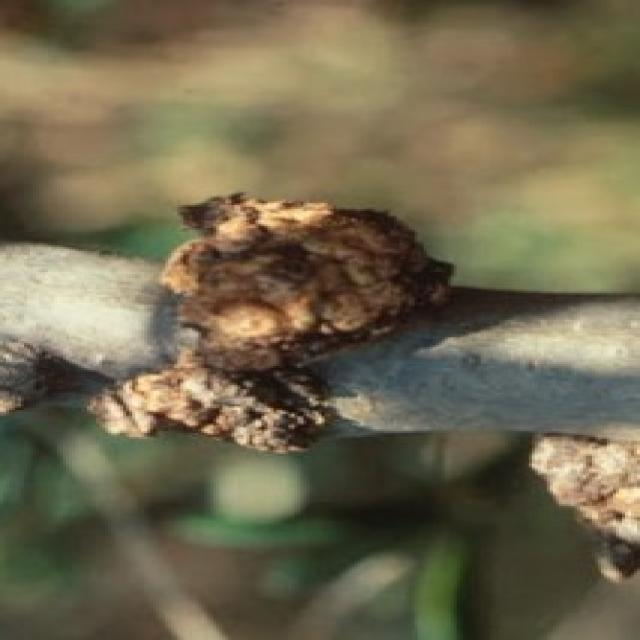Tuberculosis: (87, 194, 451, 451), (529, 437, 637, 580)
